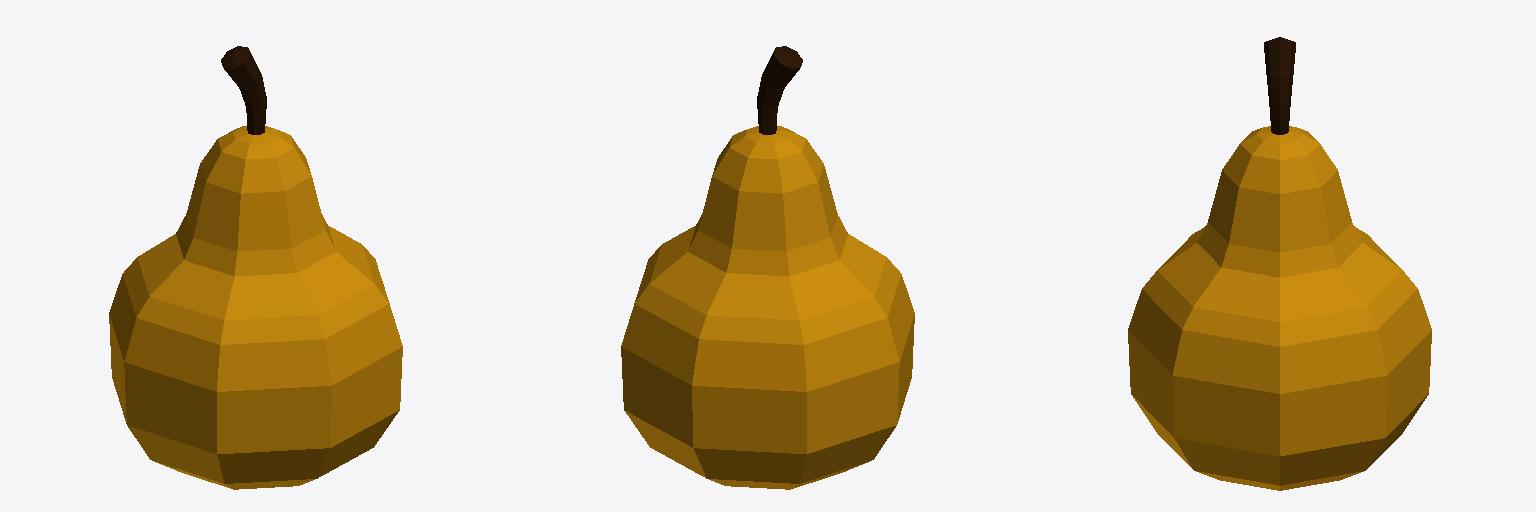
Rendered from pear.obj.
3 renders of one model, left to right at view 1: azimuth 30°, elevation 25°; view 2: azimuth 150°, elevation 25°; view 3: azimuth 270°, elevation 25°, orthographic.
Visible parts, largest first — view 1: pear; view 2: pear; view 3: pear.
Part boxes in pixels (left/top/right/bottom): pear: left=109, top=46, right=402, bottom=489; pear: left=621, top=46, right=914, bottom=489; pear: left=1128, top=37, right=1431, bottom=490.
Bounding box in the file's own units: 0.123 × 0.1879 × 0.123.